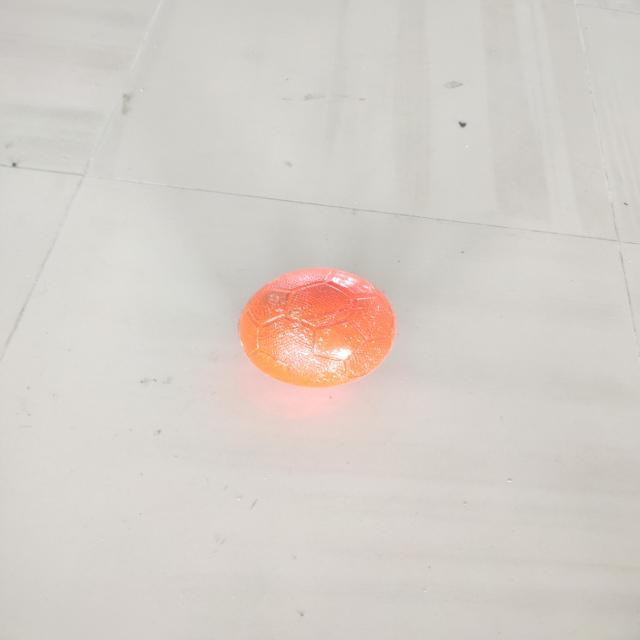bola: (235, 263, 398, 392)
